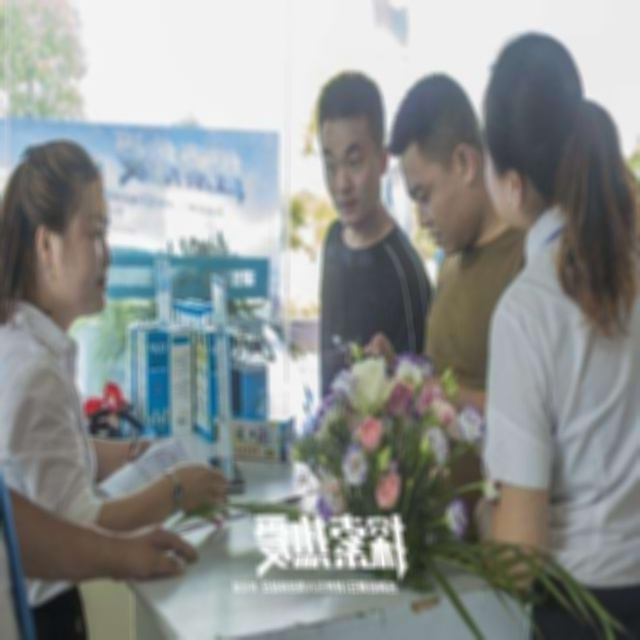Sin_Casco_Mascarrilla: (318, 68, 384, 220)
